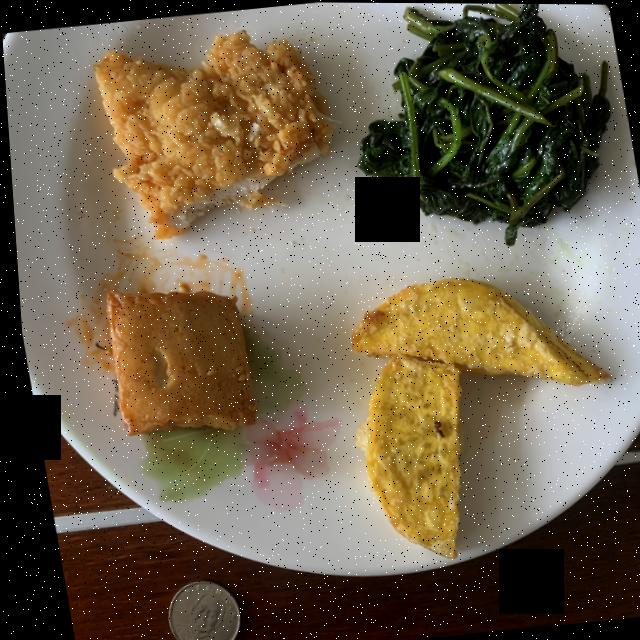coin: (159, 579, 231, 640)
creamy tofu: (101, 289, 251, 433)
fried chicken cutlet: (93, 29, 331, 238)
sweet potato leaves: (355, 3, 609, 243)
